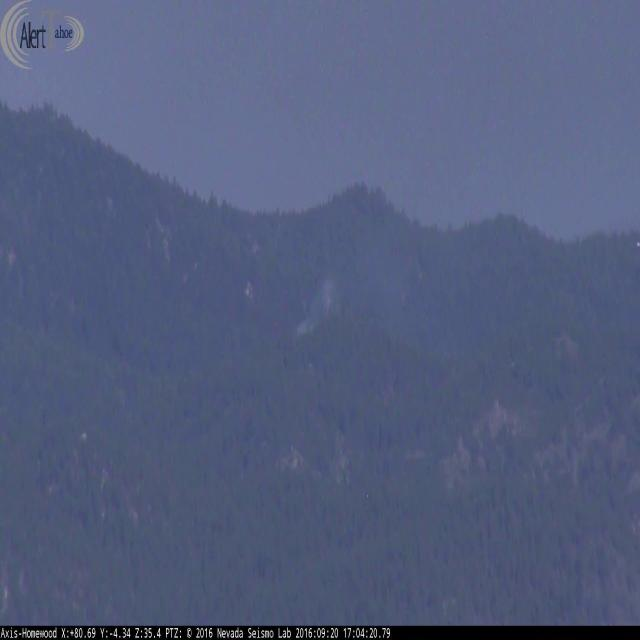smoke: (296, 204, 502, 335)
